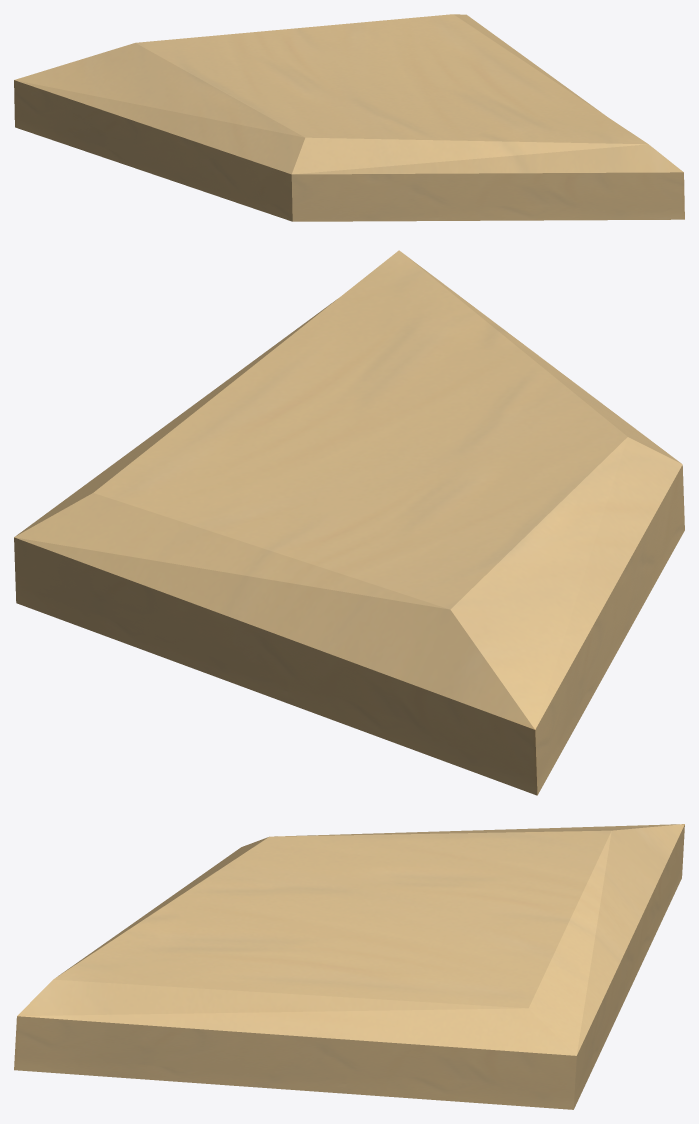
File: TileD.FBX
3 views of the same model, one above another, from view 1: azimuth 30°, elevation 25°; view 2: azimuth 150°, elevation 25°; view 3: azimuth 270°, elevation 25° (orthographic). The views are drawn at different scales.
Parts seen in each view (by area): view 1: TileD; view 2: TileD; view 3: TileD.
Boxes of the visible parts, x1=… form: TileD: x1=14, y1=14, x2=684, y2=221; TileD: x1=14, y1=250, x2=684, y2=795; TileD: x1=14, y1=824, x2=684, y2=1109.
Size of the model in its own units: 4.59 by 5.61 by 0.9813.
1 material, 1 textured.
